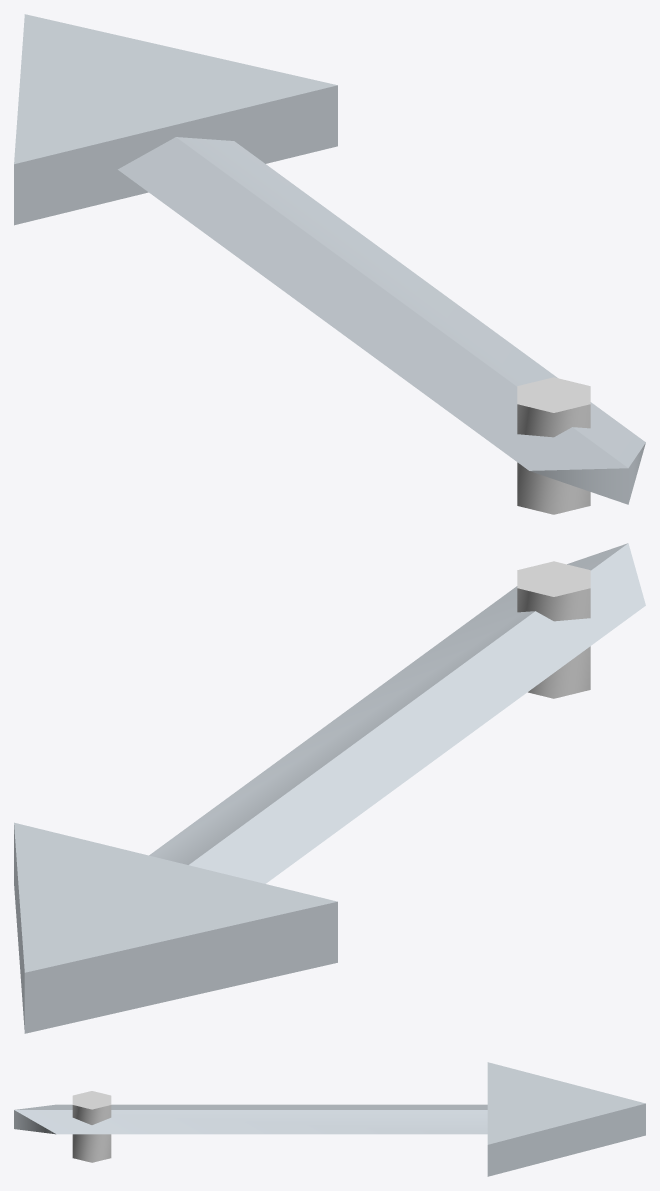
File: 0463_Hour_Hand.glb
3 renders of one model, top to bottom at view 1: azimuth 30°, elevation 25°; view 2: azimuth 150°, elevation 25°; view 3: azimuth 270°, elevation 25°, orthographic. The views are drawn at different scales.
Parts seen in each view (by area): view 1: part_0; view 2: part_0; view 3: part_0.
Part boxes in pixels (x1=…): part_0: x1=14, y1=14, x2=645, y2=514; part_0: x1=14, y1=543, x2=645, y2=1033; part_0: x1=14, y1=1062, x2=645, y2=1176.
Size of the model in its own units: 0.555 by 0.1666 by 1.79.
Materials: 1 (1 with a texture image).
